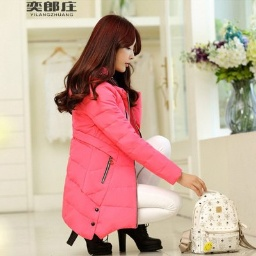face: (65, 13, 143, 84)
